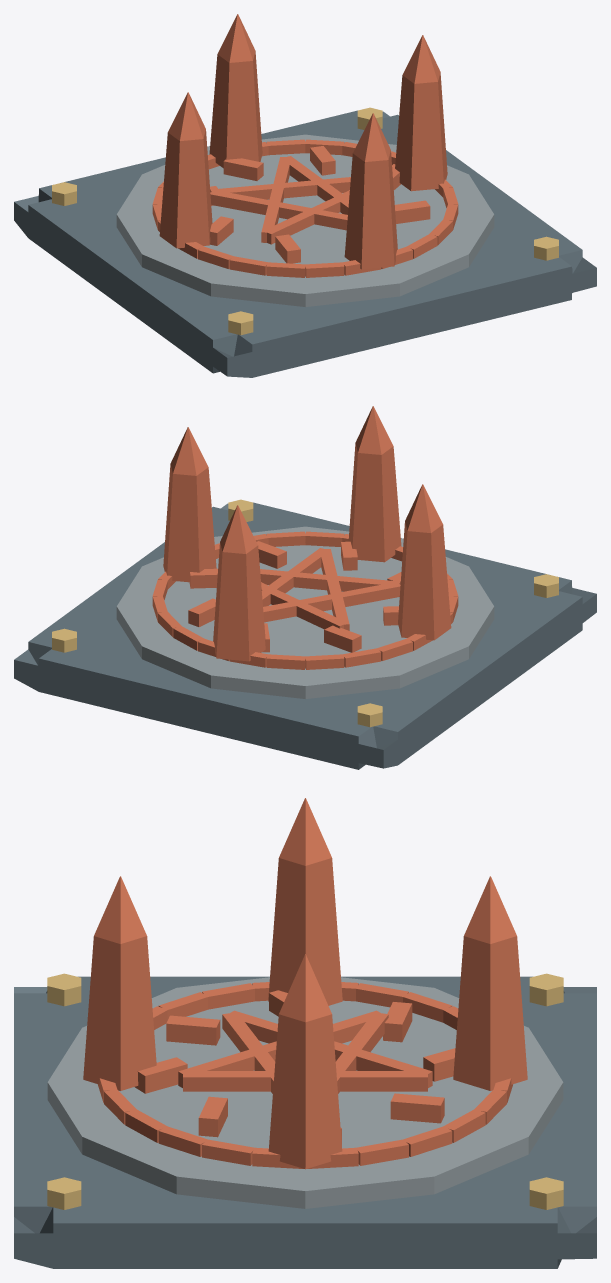
File: TrapSummoning.fbx
The picture shows the model from 3 angles, top to bottom: view 1: azimuth 30°, elevation 25°; view 2: azimuth 150°, elevation 25°; view 3: azimuth 270°, elevation 25°; orthographic projection. The views are drawn at different scales.
Visible parts, largest first — view 1: TrapSummoning.002; view 2: TrapSummoning.002; view 3: TrapSummoning.002.
Part boxes in pixels (left/top/right/bottom): TrapSummoning.002: left=14, top=14, right=596, bottom=377; TrapSummoning.002: left=14, top=406, right=596, bottom=769; TrapSummoning.002: left=14, top=798, right=596, bottom=1268.
Size of the model in its own units: 104 by 53 by 104.
